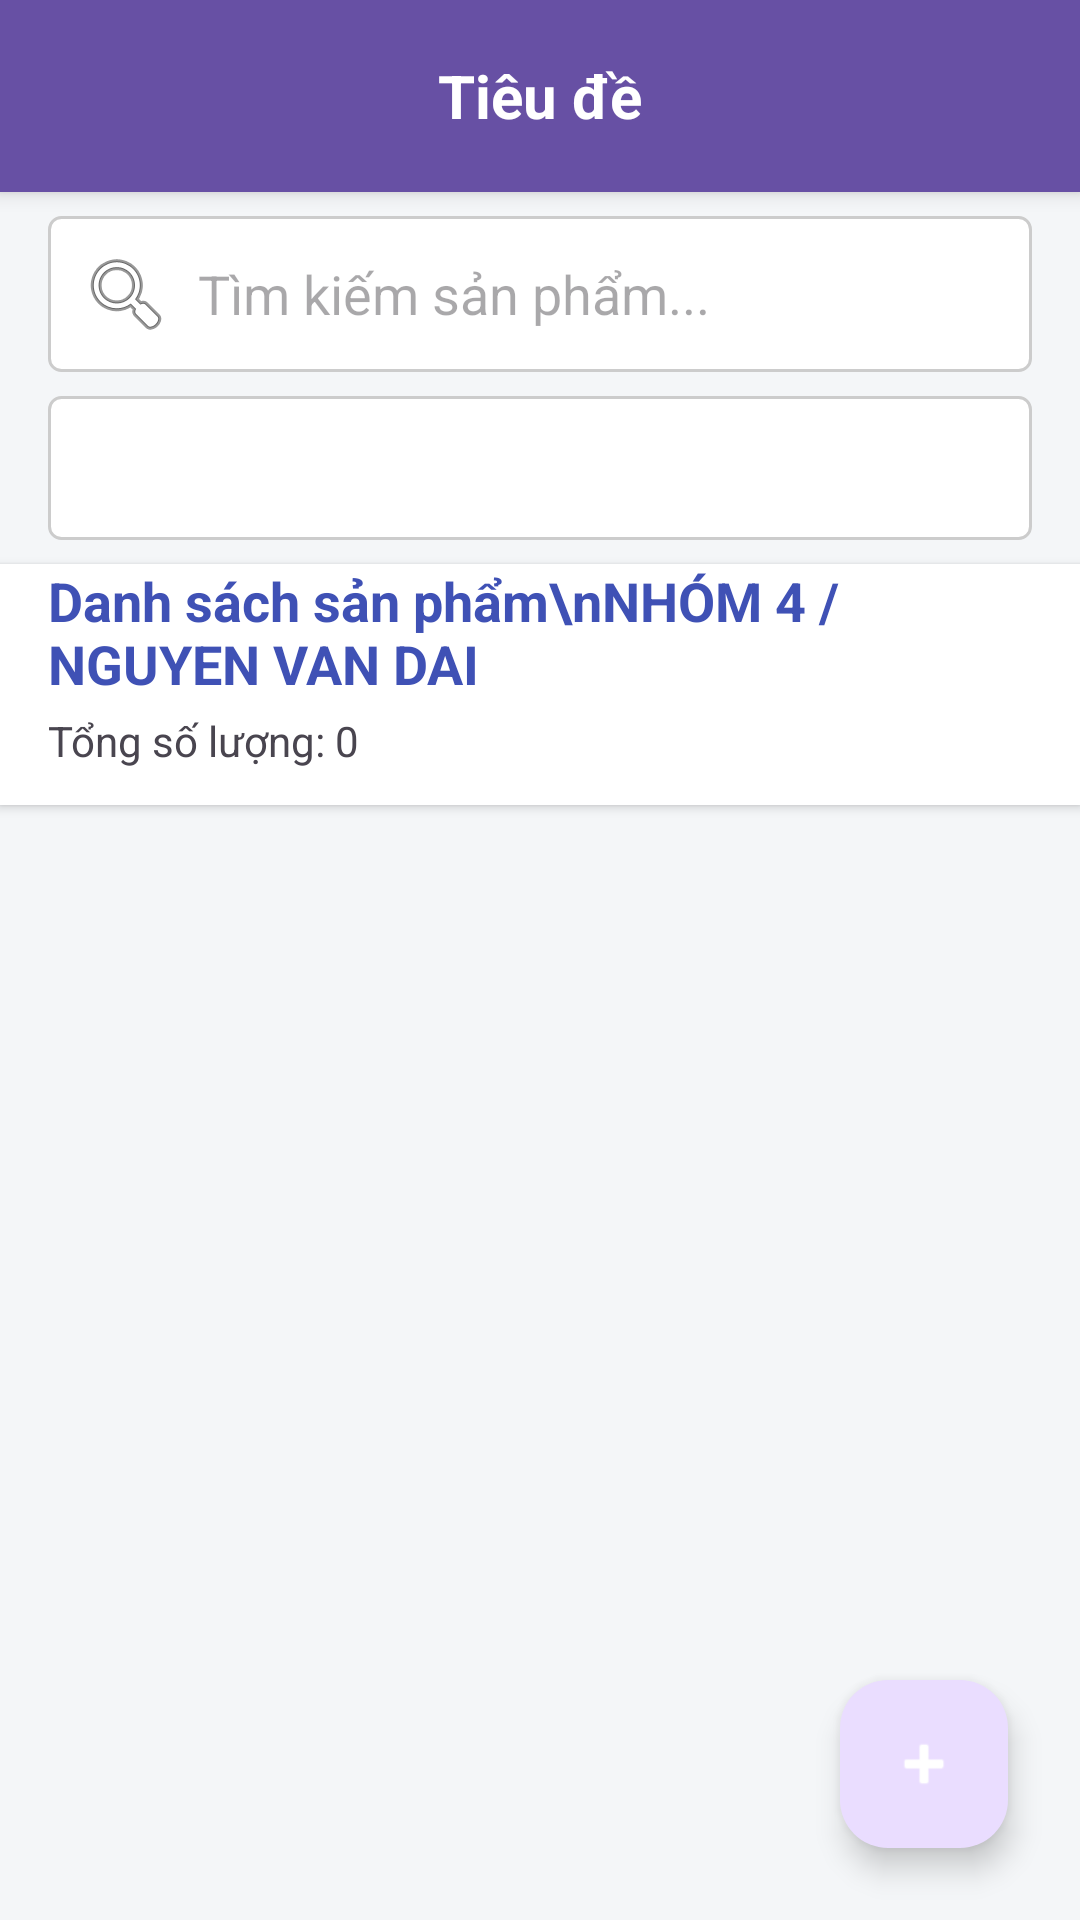

Point at icon controls on the screen. Image size 1080x1920, points as [x,y].
Thêm sản phẩm mới: [924,1764]
